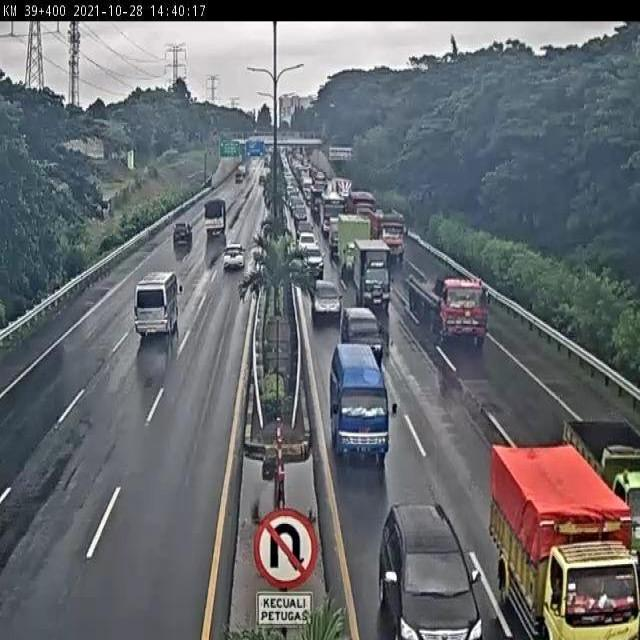bus-s-: (329, 344, 394, 467)
car: (340, 304, 384, 357), (309, 280, 342, 323), (300, 241, 325, 279), (223, 239, 244, 268), (173, 221, 192, 244)
small bus: (133, 274, 177, 338)
truck-l-: (369, 206, 408, 262)
truck-m-: (353, 239, 391, 313), (336, 212, 370, 281)
truck-xl-: (408, 271, 495, 348)
